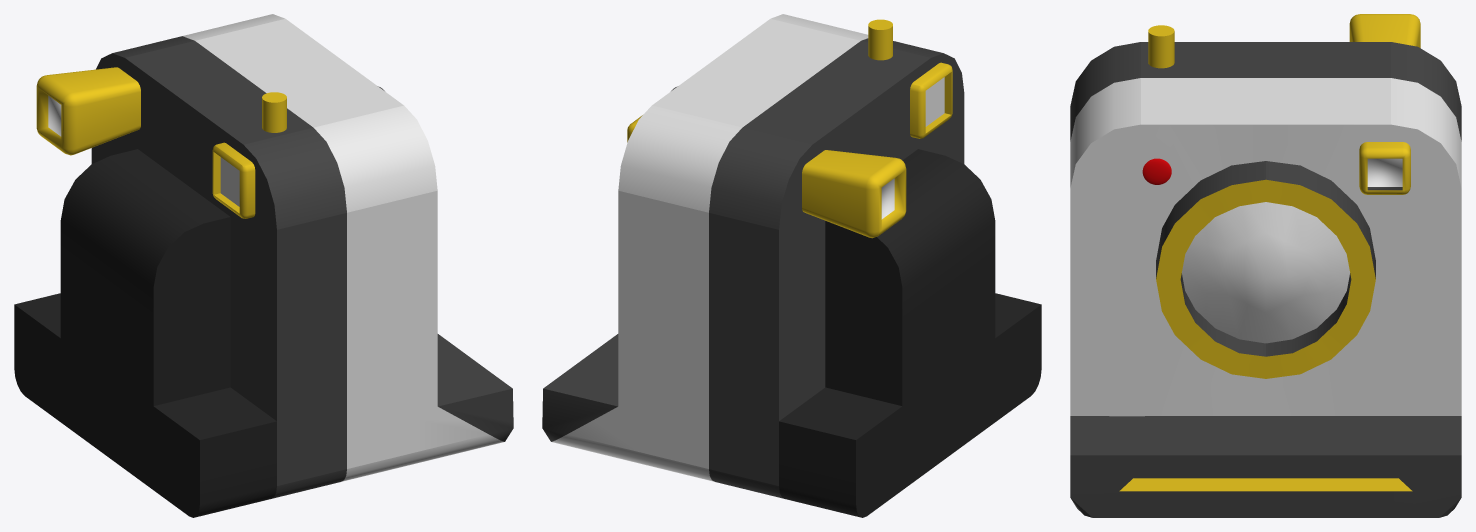
File: Camera.fbx
3 views of the same model, side by side, from view 1: azimuth 30°, elevation 25°; view 2: azimuth 150°, elevation 25°; view 3: azimuth 270°, elevation 25° (orthographic). The views are drawn at different scales.
Visible parts, largest first — view 1: Camera; view 2: Camera; view 3: Camera.
Boxes of the visible parts, x1,y1,x2,y2 form: Camera: (14, 14, 513, 517); Camera: (542, 14, 1041, 517); Camera: (1070, 14, 1461, 517).
Bounding box in the file's own units: 196 × 218 × 200.
